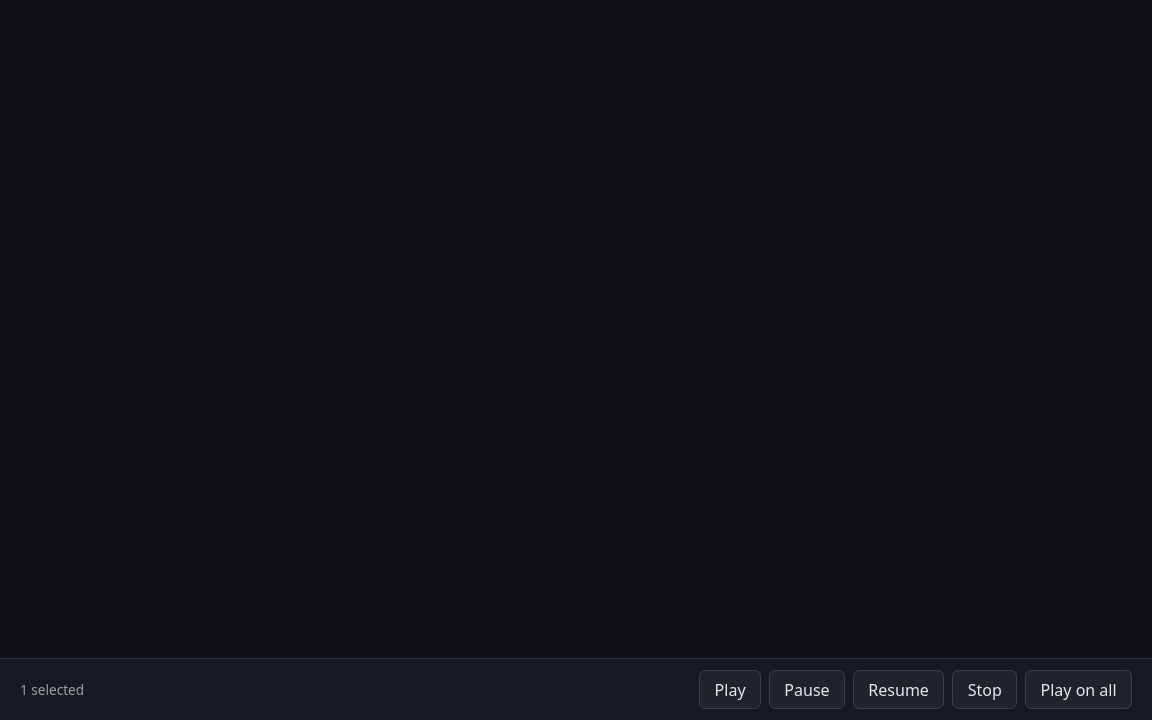
Scenario: while a command is in flight › re-enables the buttons after a failure
The image size is (1152, 720).
Click the button "Stop".
click(985, 690)  # box x1=952 y1=670 x2=1017 y2=709
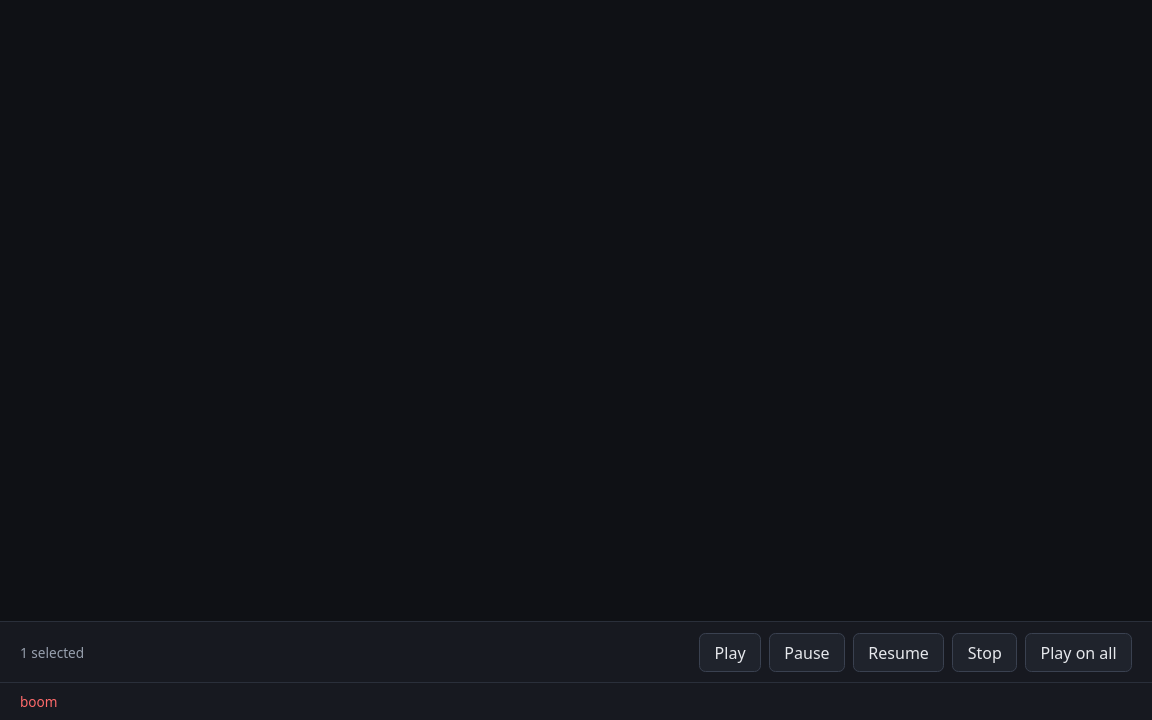
Expected: the message "boom" is shown, x1=0 y1=682 x2=1151 y2=719
